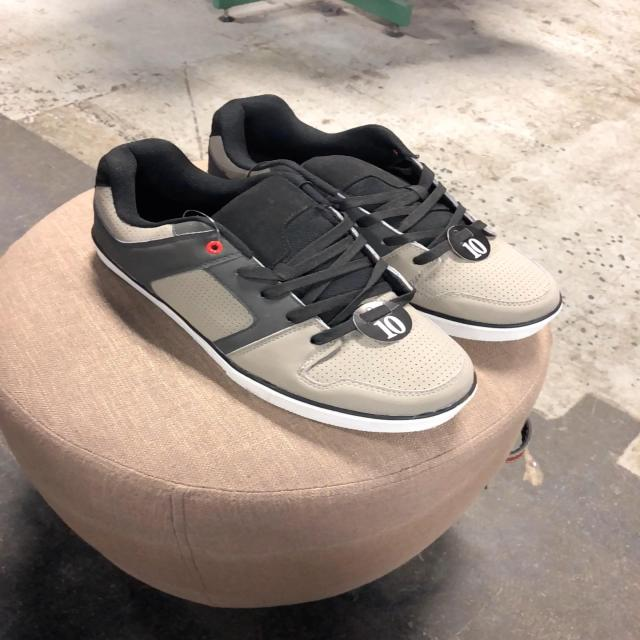shoe: (92, 140, 484, 433), (213, 97, 561, 336)
